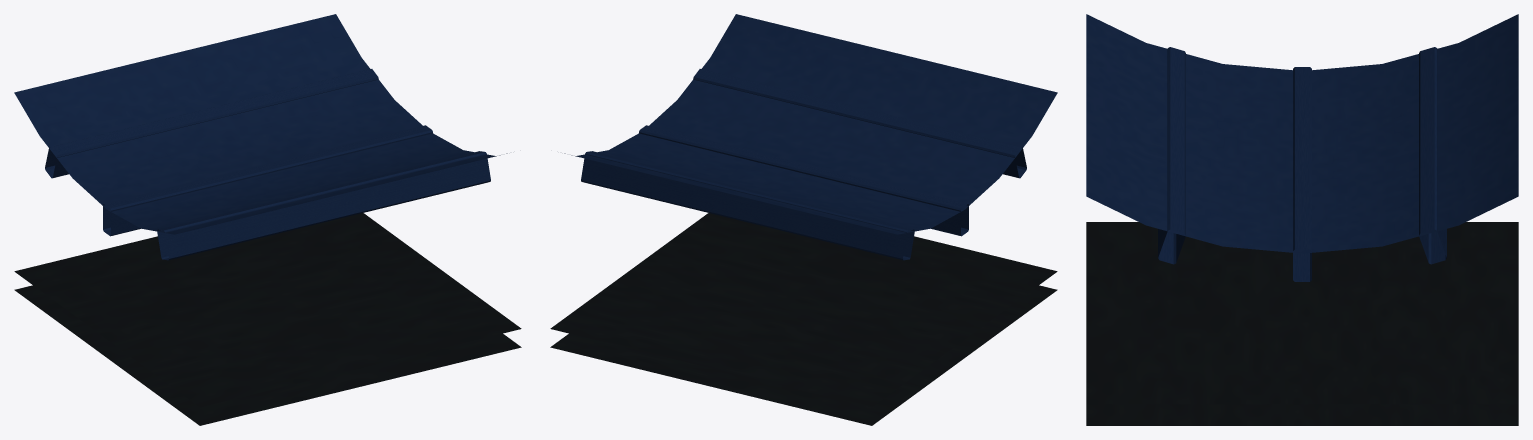
File: cell_13.obj
The picture shows the model from 3 angles, left to right: view 1: azimuth 30°, elevation 25°; view 2: azimuth 150°, elevation 25°; view 3: azimuth 270°, elevation 25°; orthographic projection. The views are drawn at different scales.
Visible parts, largest first — view 1: cell_13; view 2: cell_13; view 3: cell_13.
Part boxes in pixels (left/top/right/bottom): cell_13: left=14, top=14, right=521, bottom=425; cell_13: left=550, top=14, right=1057, bottom=425; cell_13: left=1086, top=14, right=1518, bottom=425.
Bounding box in the file's own units: 1 × 0.5858 × 1.
